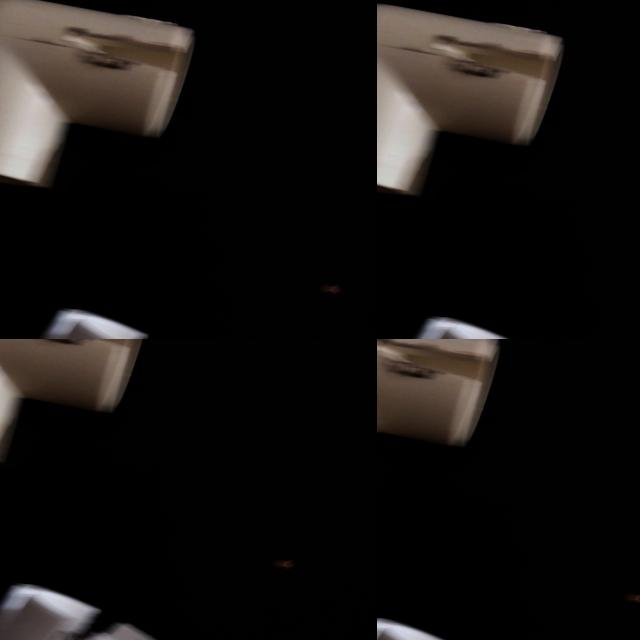Defective: (392, 339, 494, 388), (377, 615, 501, 640)
L Joint: (377, 339, 501, 451)
